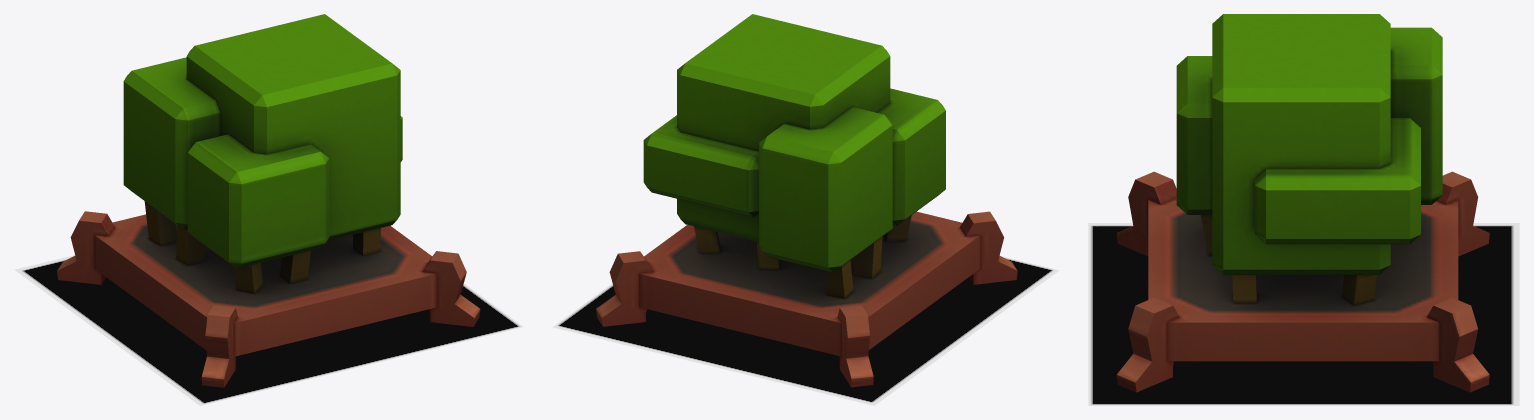
File: 2x2_bush.FBX
The picture shows the model from 3 angles, left to right: view 1: azimuth 30°, elevation 25°; view 2: azimuth 150°, elevation 25°; view 3: azimuth 270°, elevation 25°; orthographic projection. The views are drawn at different scales.
Parts seen in each view (by area): view 1: 2x2_bush, 2x2_bush_soft_shadow; view 2: 2x2_bush, 2x2_bush_soft_shadow; view 3: 2x2_bush, 2x2_bush_soft_shadow.
Part boxes in pixels (left/top/right/bottom): 2x2_bush: left=57, top=14, right=480, bottom=387; 2x2_bush_soft_shadow: left=14, top=255, right=522, bottom=405; 2x2_bush: left=596, top=14, right=1017, bottom=387; 2x2_bush_soft_shadow: left=552, top=256, right=1059, bottom=405; 2x2_bush: left=1116, top=14, right=1489, bottom=392; 2x2_bush_soft_shadow: left=1088, top=223, right=1519, bottom=405.
Size of the model in its own units: 2133 by 1517 by 2124.
